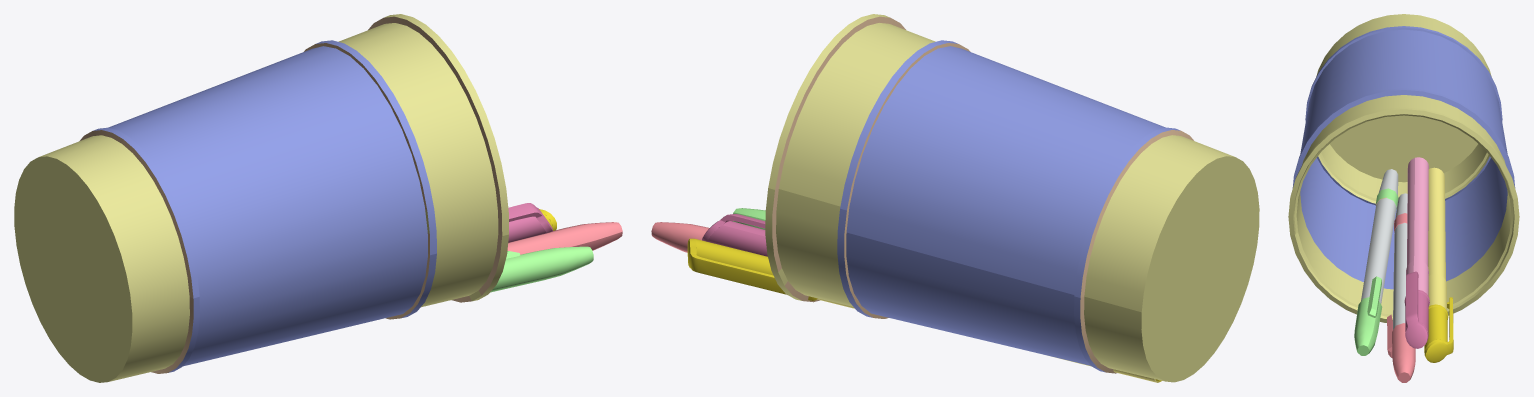
Rendered from 종이컵과볼펜결합.fbx.
The picture shows the model from 3 angles, left to right: view 1: azimuth 30°, elevation 25°; view 2: azimuth 150°, elevation 25°; view 3: azimuth 270°, elevation 25°; orthographic projection. The views are drawn at different scales.
Visible parts, largest first — view 1: cup_for_pen, hood_01.001, hood_01.002, hood_02; view 2: cup_for_pen, hood_02.001, hood_02, hood_01.002; view 3: cup_for_pen, gel_pen, pen.001, gel_pen.001, pen.002, hood_02, hood_01.001, hood_02.001, hood_01.002.
Boxes of the visible parts, x1,y1,x2,y2 form: cup_for_pen: (14,14,508,382); hood_01.001: (490,246,593,292); hood_01.002: (507,222,622,254); hood_02: (508,203,552,242); cup_for_pen: (765,14,1259,382); hood_02.001: (687,238,817,300); hood_02: (702,214,767,256); hood_01.002: (651,222,709,252); cup_for_pen: (1288,14,1519,322); gel_pen: (1406,157,1428,295); pen.001: (1361,169,1398,304); gel_pen.001: (1428,167,1446,310); pen.002: (1393,193,1407,329); hood_02: (1404,271,1429,348); hood_01.001: (1354,276,1382,355); hood_02.001: (1424,297,1453,362); hood_01.002: (1387,314,1415,382).
Size of the model in its own units: 1851 by 865 by 866.
